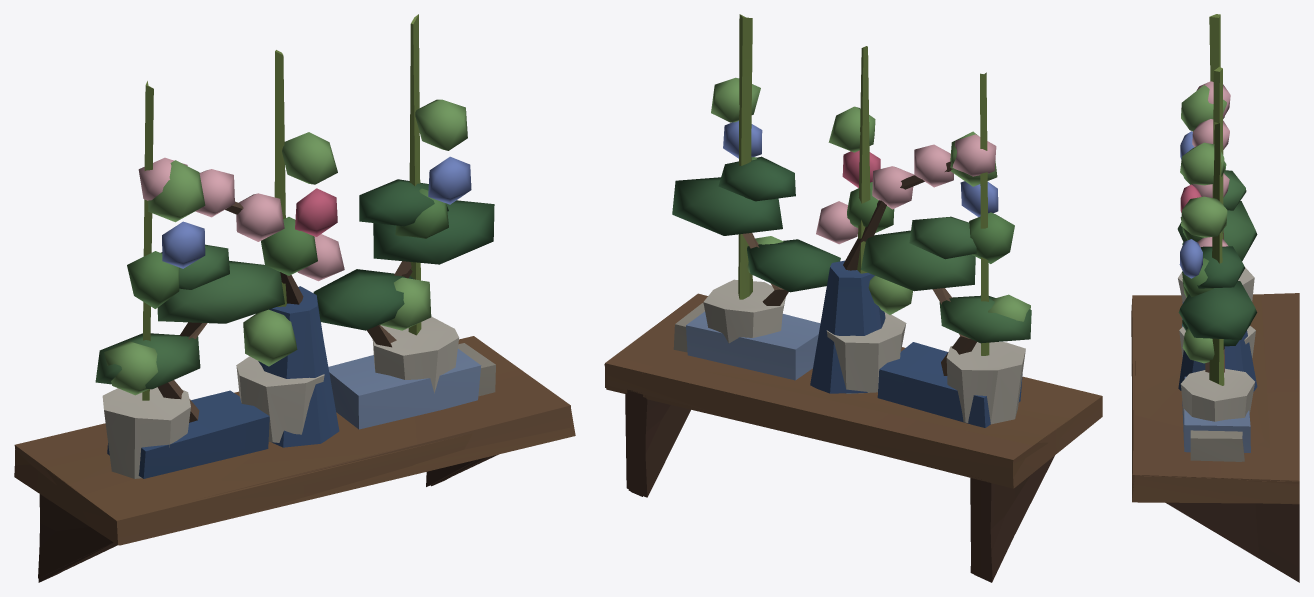
File: flowerbox.glb
3 renders of one model, left to right at view 1: azimuth 30°, elevation 25°; view 2: azimuth 150°, elevation 25°; view 3: azimuth 270°, elevation 25°, orthographic. The views are drawn at different scales.
Visible parts, largest first — view 1: flowerbox.v1.mesh, flowerbox.v0.mesh, flowerbox.v2.mesh; view 2: flowerbox.v0.mesh, flowerbox.v1.mesh, flowerbox.v2.mesh; view 3: flowerbox.v1.mesh, flowerbox.v2.mesh, flowerbox.v0.mesh.
Part boxes in pixels (x1=…): flowerbox.v1.mesh: x1=14, y1=14, x2=570, y2=578; flowerbox.v0.mesh: x1=14, y1=179, x2=571, y2=572; flowerbox.v2.mesh: x1=15, y1=157, x2=575, y2=582; flowerbox.v0.mesh: x1=604, y1=156, x2=1102, y2=581; flowerbox.v1.mesh: x1=605, y1=14, x2=1054, y2=578; flowerbox.v2.mesh: x1=605, y1=134, x2=1070, y2=582; flowerbox.v1.mesh: x1=1131, y1=14, x2=1299, y2=504; flowerbox.v2.mesh: x1=1132, y1=81, x2=1299, y2=581; flowerbox.v0.mesh: x1=1131, y1=170, x2=1299, y2=582.
Size of the model in its own units: 0.6893 by 0.7492 by 0.2645.
